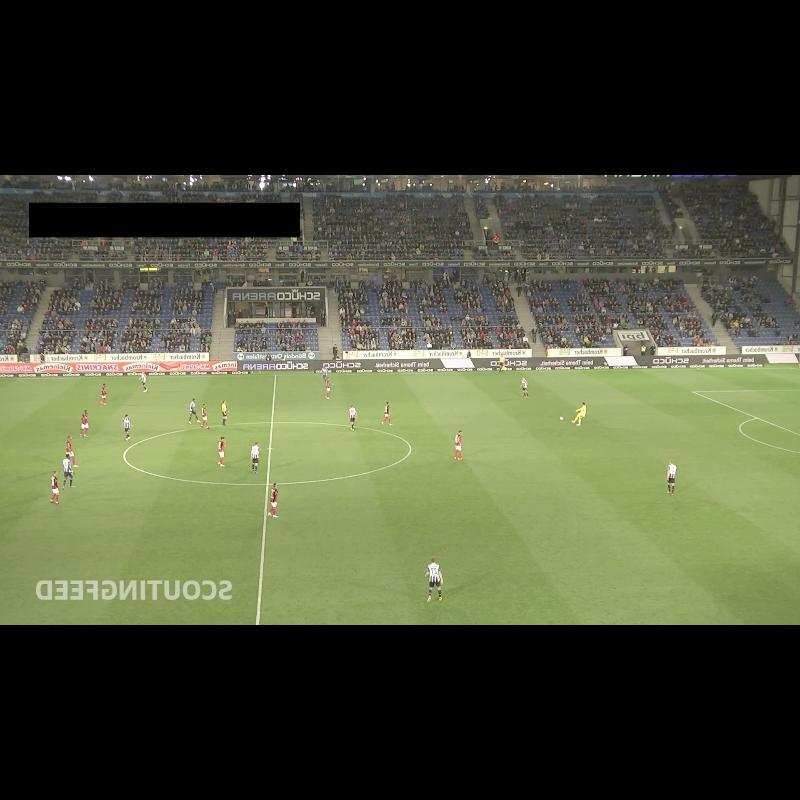cross_recipient_zone: (693, 390, 800, 435)
crossing_player_zone: (555, 368, 800, 393)
pitch: (0, 369, 800, 625)
